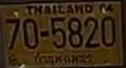0: (100, 16, 116, 46), (22, 18, 38, 48)
2: (84, 16, 98, 47)
5: (50, 16, 65, 48)
7: (6, 18, 20, 48)
8: (67, 17, 82, 47)
KPT: (32, 51, 94, 65)
